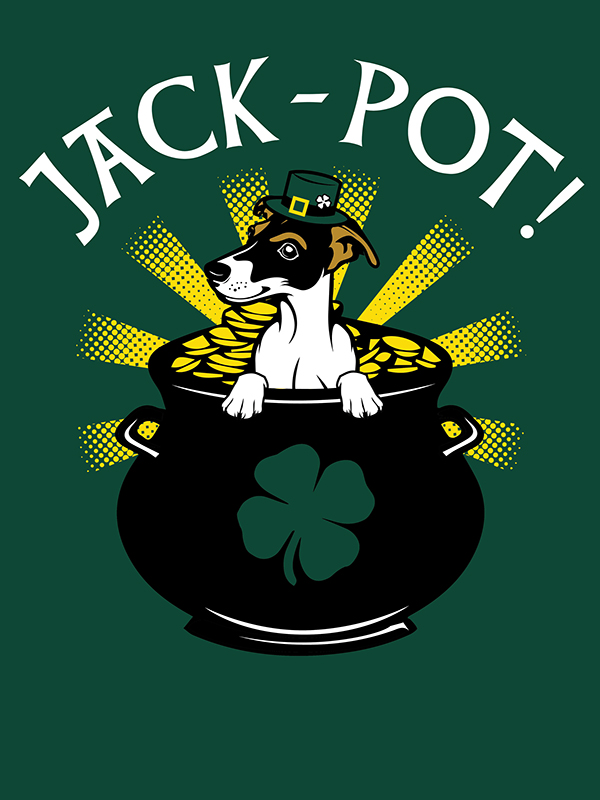dog: (181, 152, 411, 431)
